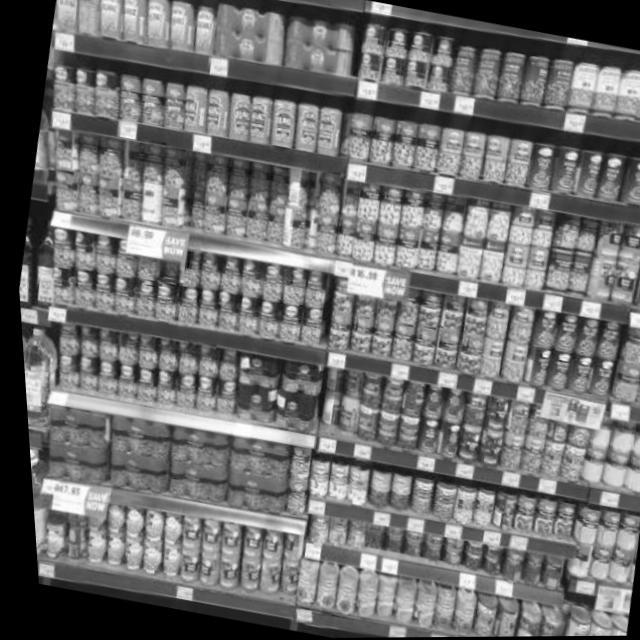Beans: (200, 188, 226, 213), (141, 140, 167, 165), (252, 298, 278, 321), (95, 137, 126, 156), (161, 147, 187, 169), (47, 169, 73, 190), (91, 358, 118, 378), (90, 235, 112, 259), (396, 227, 418, 250), (173, 286, 197, 307), (71, 269, 92, 292), (434, 232, 456, 253), (50, 229, 72, 250), (192, 287, 214, 308), (371, 117, 393, 138), (350, 114, 372, 135), (317, 172, 339, 193), (370, 226, 395, 244), (316, 212, 337, 233), (335, 217, 357, 237), (170, 372, 192, 392), (245, 160, 267, 180), (183, 248, 200, 273), (302, 271, 323, 291), (227, 156, 248, 176), (353, 222, 375, 241), (235, 295, 257, 314), (213, 293, 235, 312), (383, 56, 405, 75), (418, 293, 441, 311), (360, 24, 383, 42), (265, 205, 285, 225), (285, 269, 305, 289), (261, 265, 281, 285), (369, 316, 389, 336), (111, 361, 131, 381), (396, 122, 416, 142), (93, 73, 113, 93), (382, 185, 402, 205), (413, 326, 434, 345), (215, 346, 236, 365), (267, 165, 288, 184), (246, 200, 266, 219), (202, 192, 222, 211), (460, 334, 480, 353), (152, 282, 172, 301), (133, 334, 153, 353), (51, 68, 71, 87), (207, 154, 227, 173), (224, 197, 245, 214), (465, 300, 486, 317), (360, 184, 383, 199), (350, 316, 368, 335), (427, 63, 446, 81), (391, 324, 411, 341), (302, 309, 322, 326), (132, 369, 152, 386), (420, 128, 440, 145), (51, 129, 71, 146), (220, 256, 238, 274), (198, 253, 216, 271), (150, 369, 168, 387), (417, 232, 436, 249), (108, 277, 127, 294), (79, 136, 98, 153), (434, 330, 455, 345), (132, 283, 153, 298), (193, 343, 214, 358), (93, 177, 109, 196), (47, 263, 63, 282), (172, 340, 191, 356), (281, 304, 301, 319), (388, 31, 408, 46), (93, 329, 116, 342), (73, 70, 89, 88), (409, 34, 428, 49), (435, 39, 454, 54), (192, 376, 211, 391), (53, 356, 72, 371), (239, 261, 256, 277), (92, 273, 109, 289), (404, 60, 421, 76), (71, 230, 86, 248), (327, 313, 345, 328), (216, 380, 231, 396), (72, 359, 92, 371), (78, 173, 91, 189), (155, 338, 171, 351), (74, 325, 91, 337), (359, 52, 372, 67), (380, 318, 390, 326)
